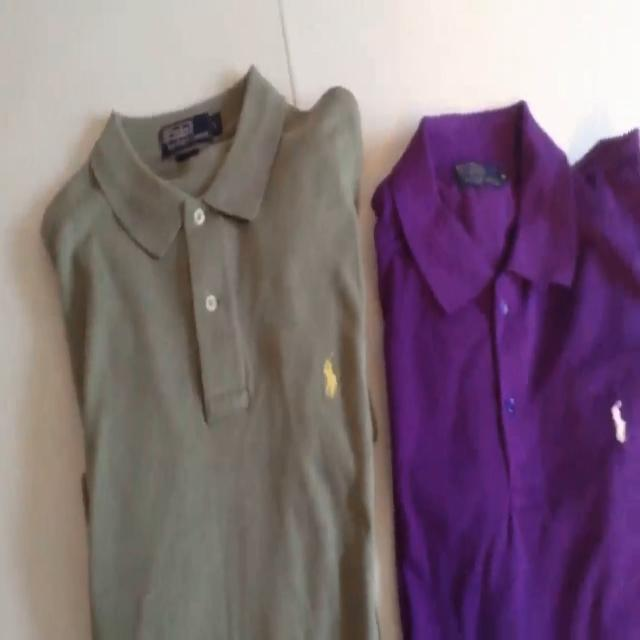Shirt: (39, 64, 379, 640), (370, 97, 640, 640)
